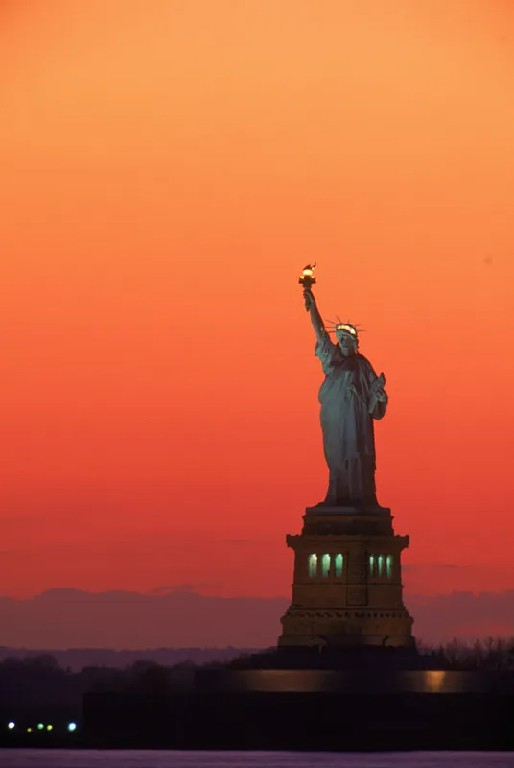SL: (278, 261, 415, 646)
